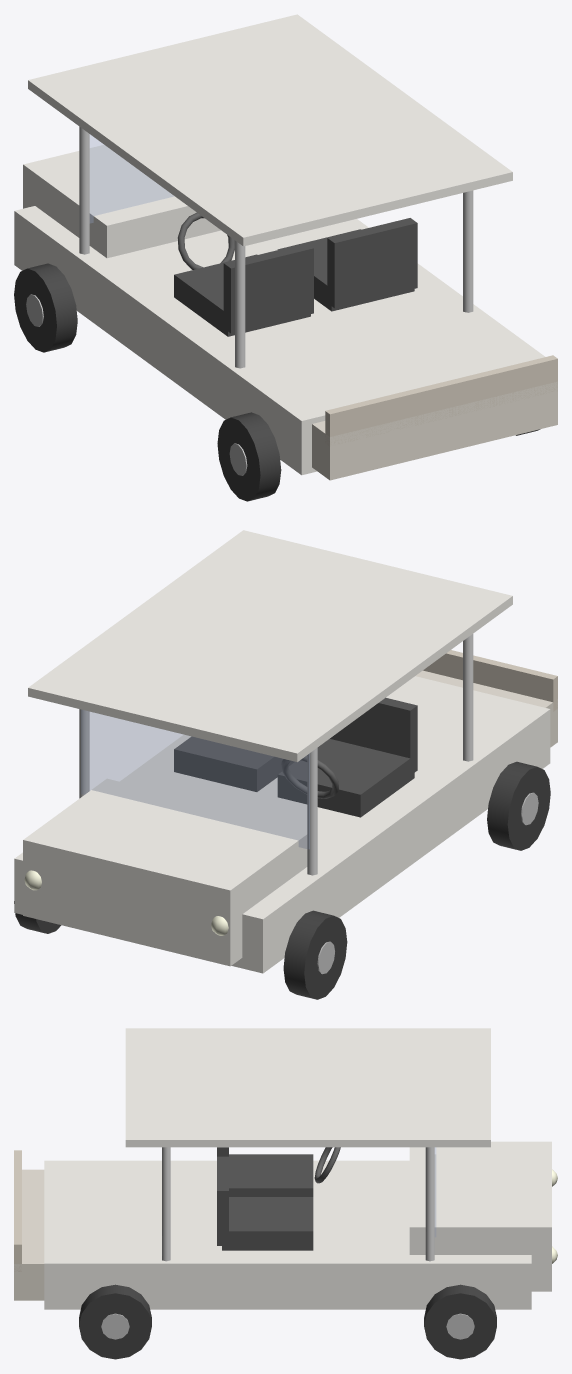
File: golf_cart.glb
The picture shows the model from 3 angles, top to bottom: view 1: azimuth 30°, elevation 25°; view 2: azimuth 150°, elevation 25°; view 3: azimuth 270°, elevation 25°; orthographic projection. The views are drawn at different scales.
Size of the model in its own units: 1.41 by 1.17 by 2.68.
